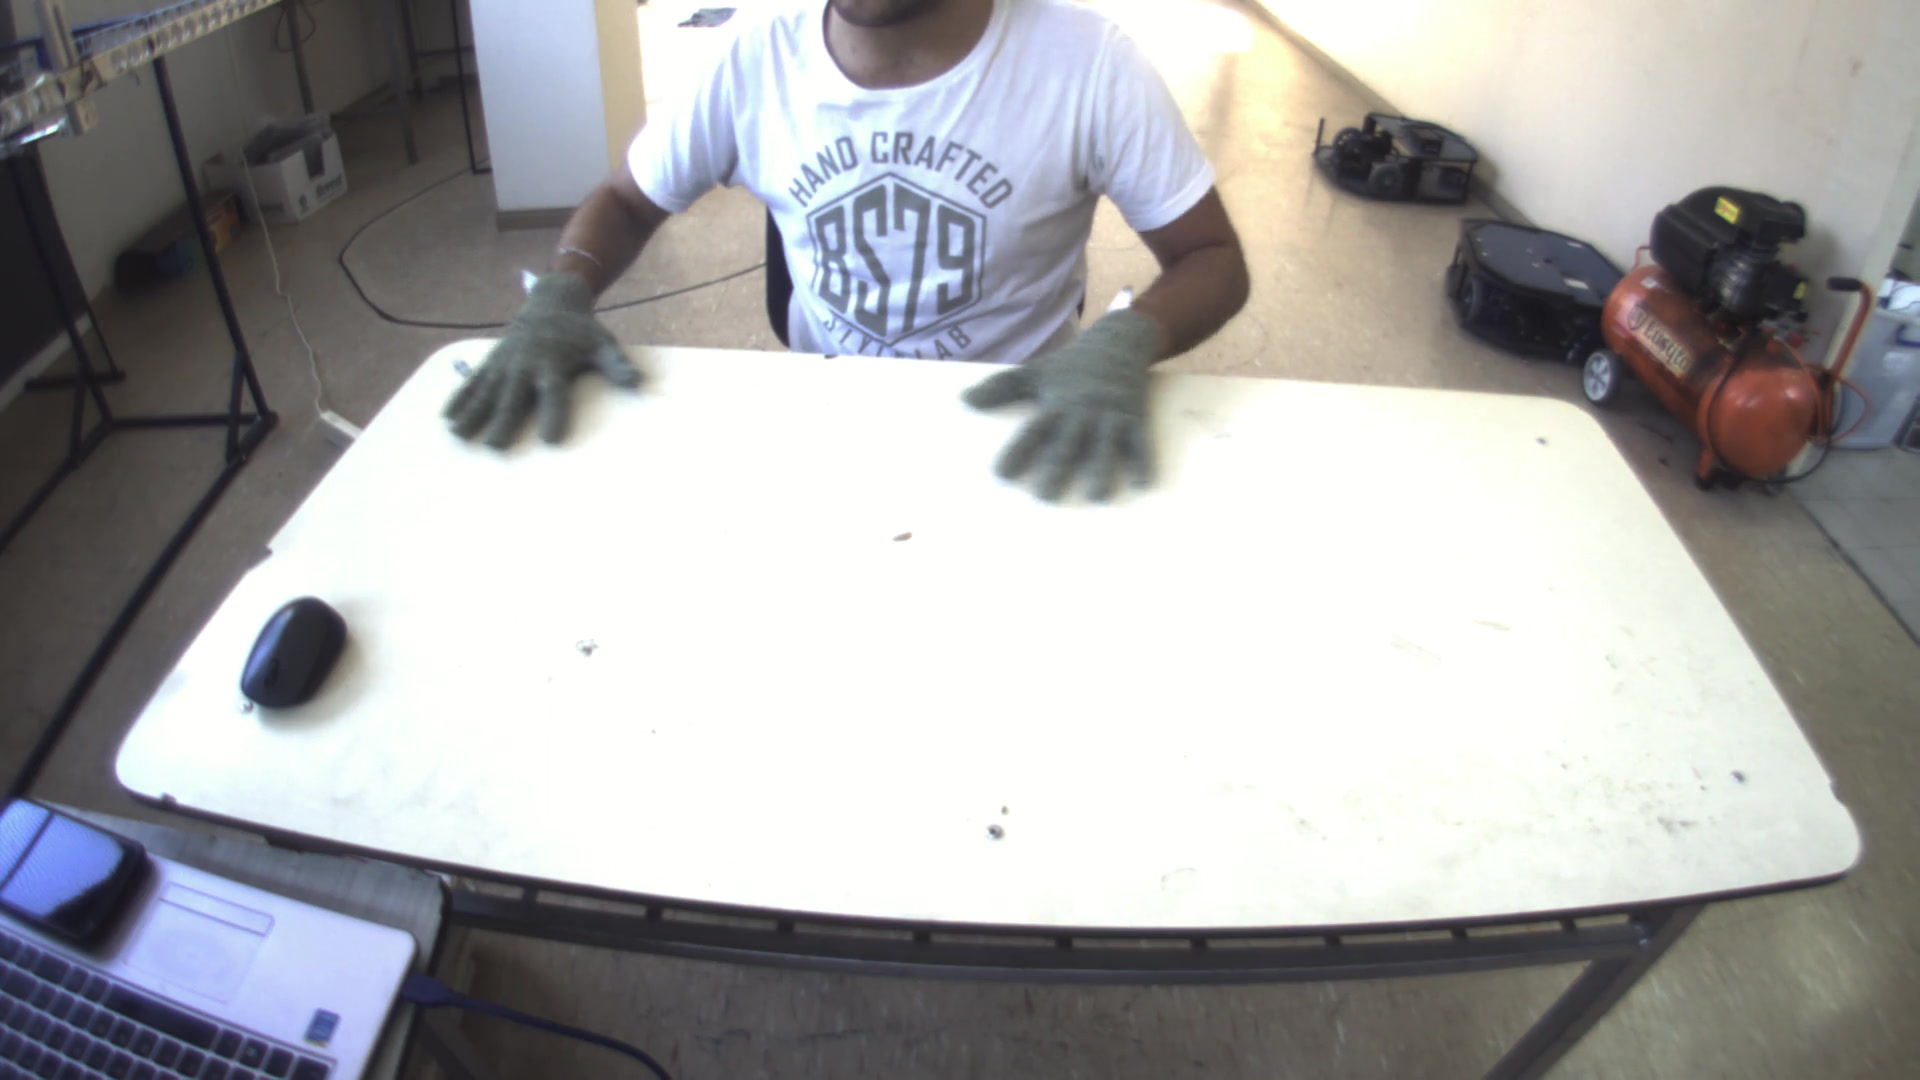hand: (956, 301, 1188, 512), (430, 255, 647, 460)
